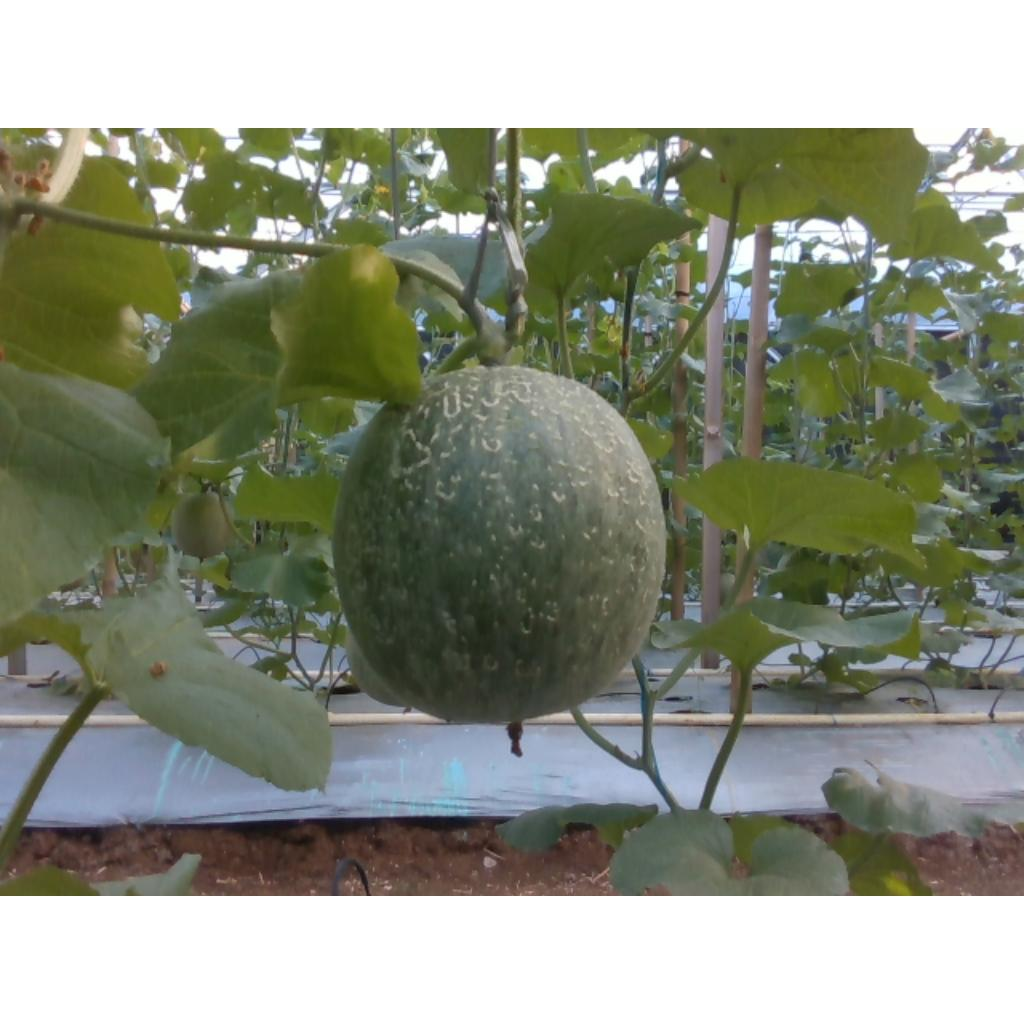melon: (333, 366, 667, 756)
